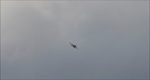maybay_muctieu: (69, 40, 80, 50)
